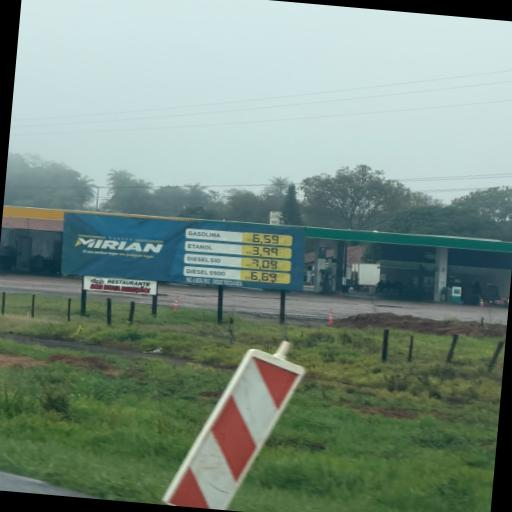ETANOL: (186, 240, 216, 253)
GASOLINA C: (186, 228, 224, 241)
S10: (185, 253, 224, 266)
S500: (184, 266, 228, 280)
placa: (61, 207, 308, 292)
preco: (251, 232, 281, 246), (250, 270, 280, 284), (252, 244, 280, 258), (250, 258, 280, 270)
